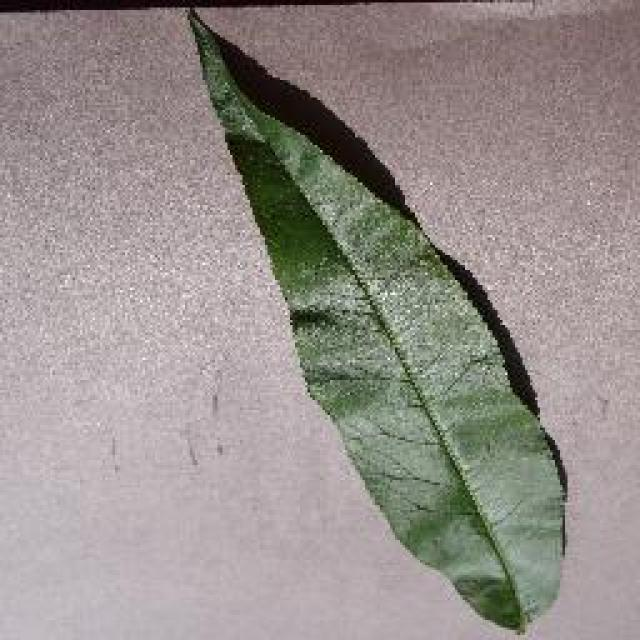Pea_healthy: (202, 52, 556, 588)
